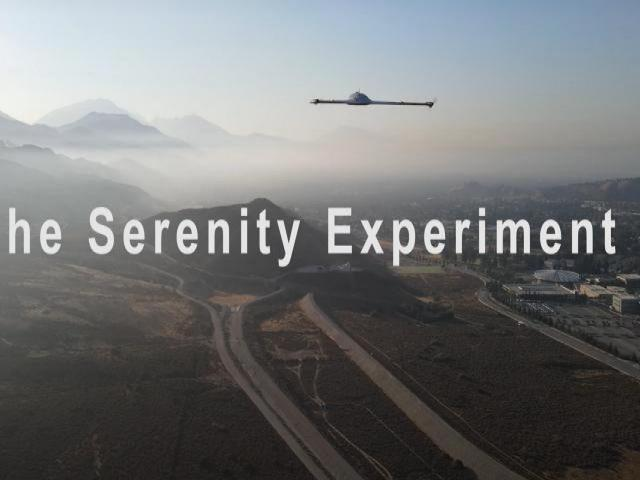iha: (305, 76, 436, 120)
